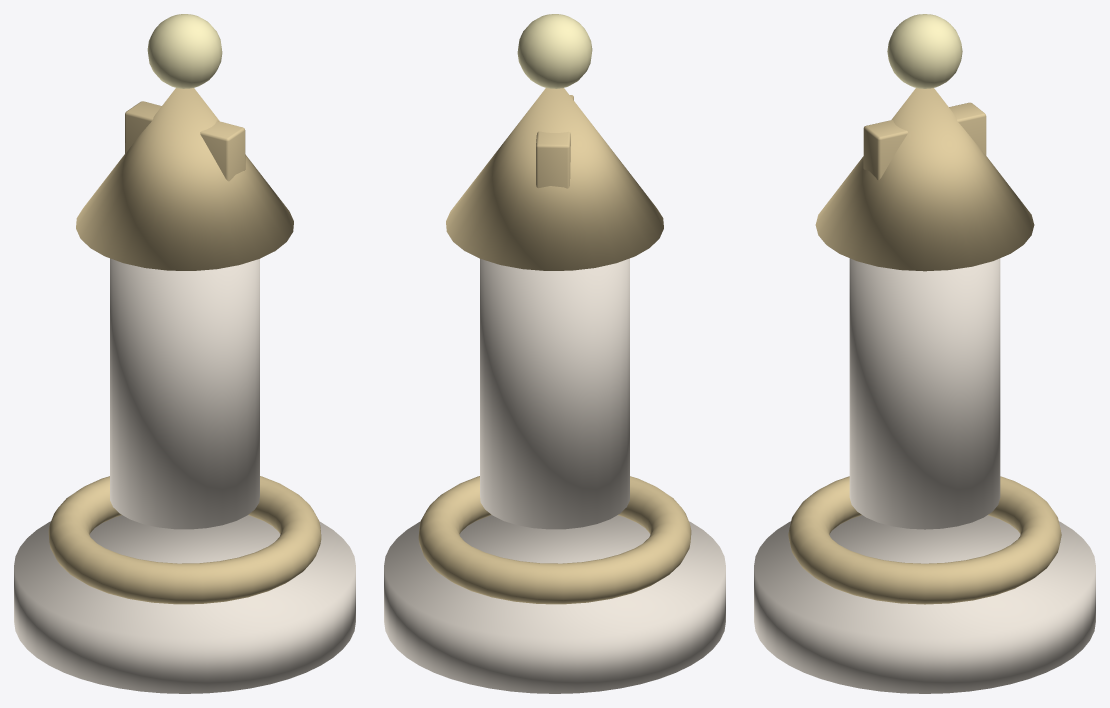
Rendered from bishop.glb.
The picture shows the model from 3 angles, left to right: view 1: azimuth 30°, elevation 25°; view 2: azimuth 150°, elevation 25°; view 3: azimuth 270°, elevation 25°; orthographic projection.
Parts seen in each view (by area): view 1: base, collar, gem; view 2: base, collar, gem; view 3: base, collar, gem.
Boxes of the visible parts, x1,y1,x2,y2 form: base: (14,258,355,693); collar: (48,88,321,604); gem: (147,14,222,88); base: (384,258,725,693); collar: (418,88,691,604); gem: (517,14,592,88); base: (754,258,1095,693); collar: (788,88,1061,604); gem: (887,14,962,88).
Size of the model in its own units: 0.5 by 0.975 by 0.5.
